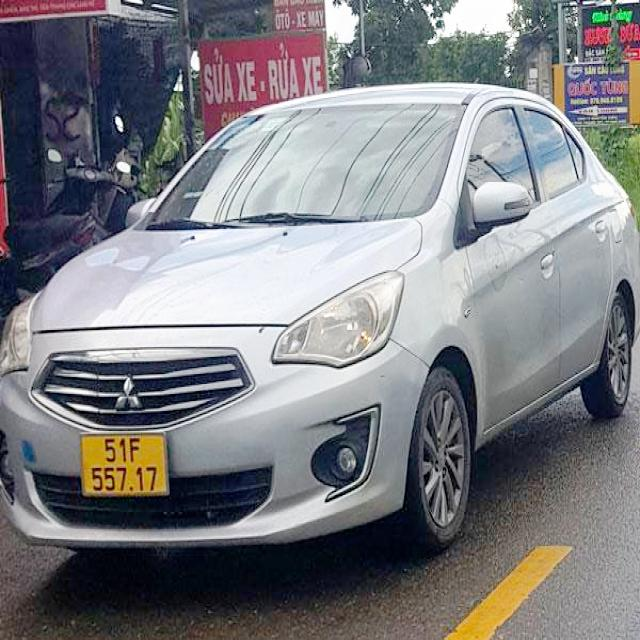license_plate: (82, 435, 167, 494)
